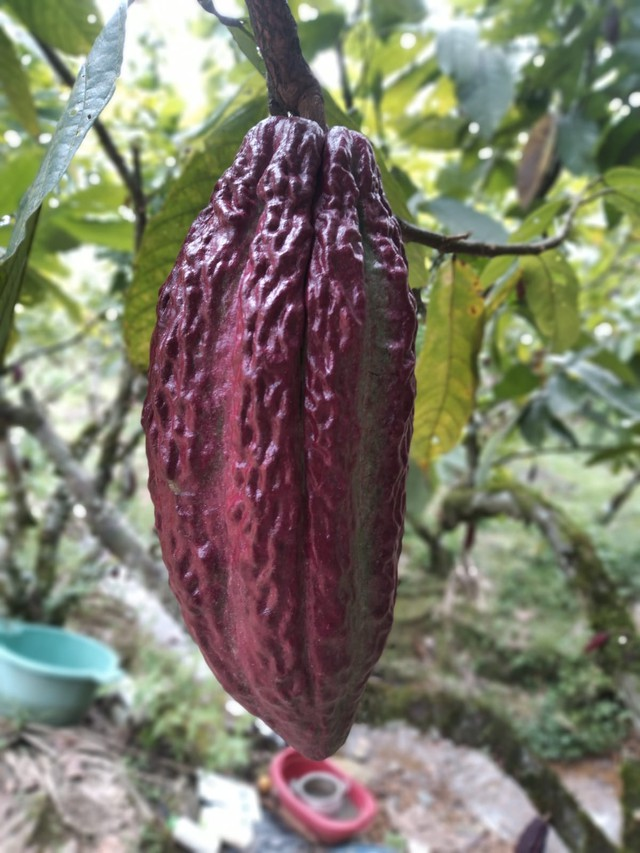Health: (97, 77, 463, 776)
